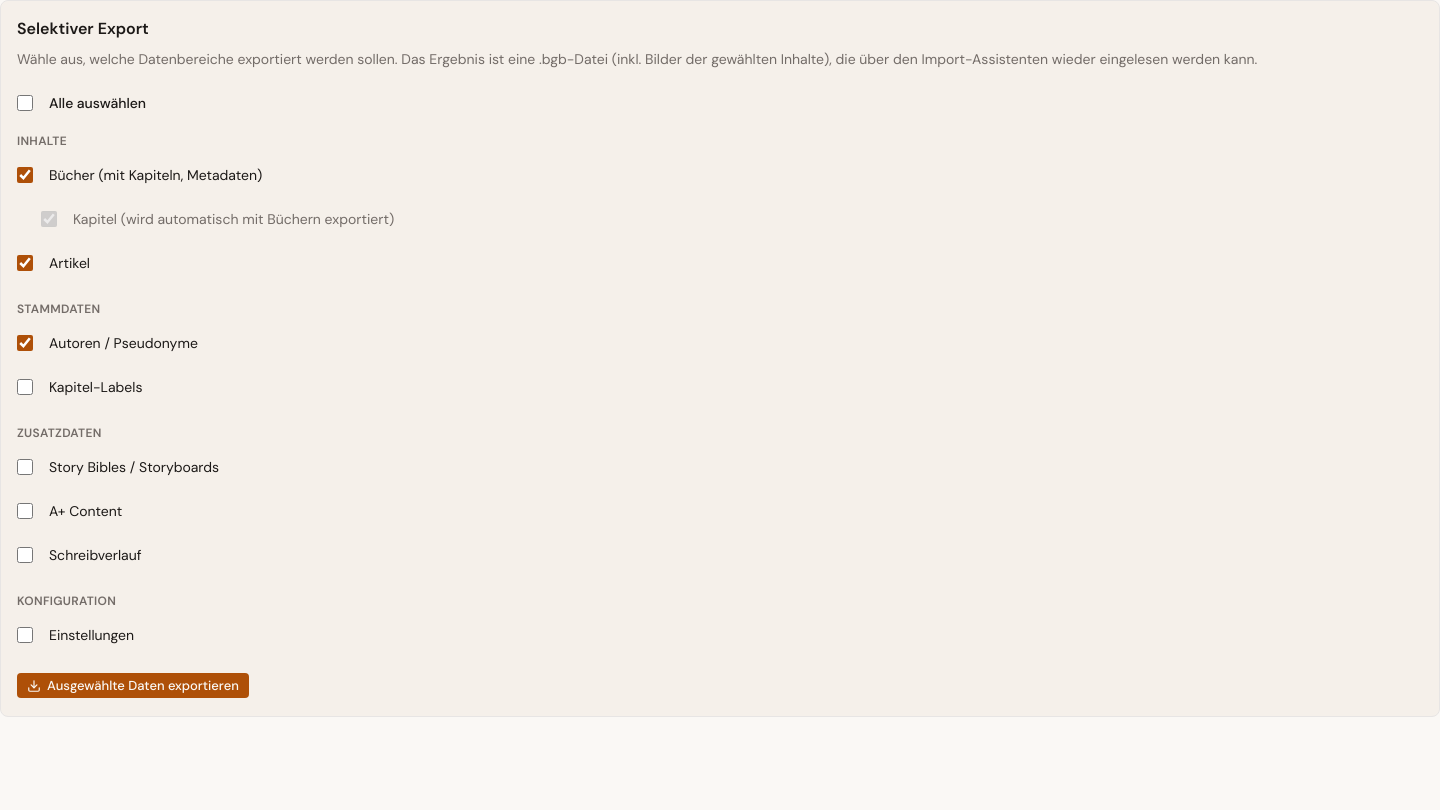
it: SelectiveExportSection › shows the chapters-auto hint only while books is checked
Check: the checkbox with test id "selective-export-item-chapters" is shown, box [41,211,57,227]
Click the checkbox with test id "selective-export-item-books" at (25, 175), box [17,167,33,183]
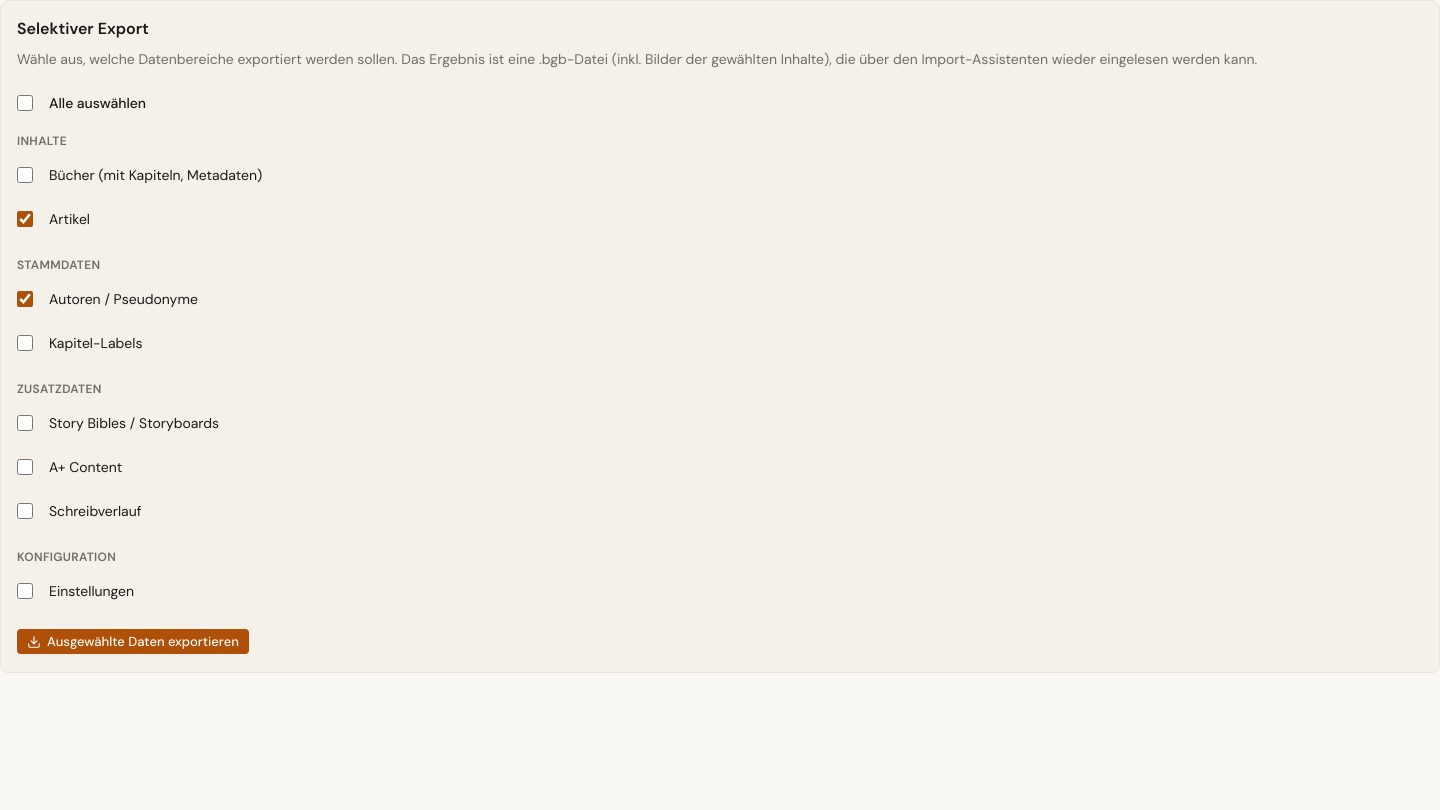
Check: the checkbox with test id "selective-export-item-chapters" is gone
